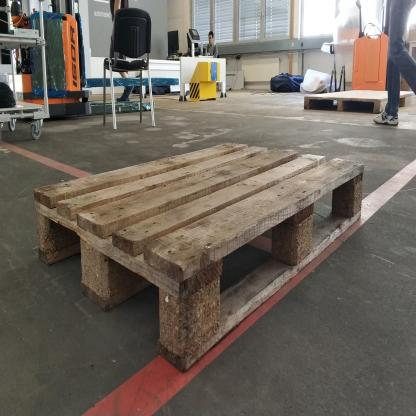BoxFace: (32, 140, 366, 381)
